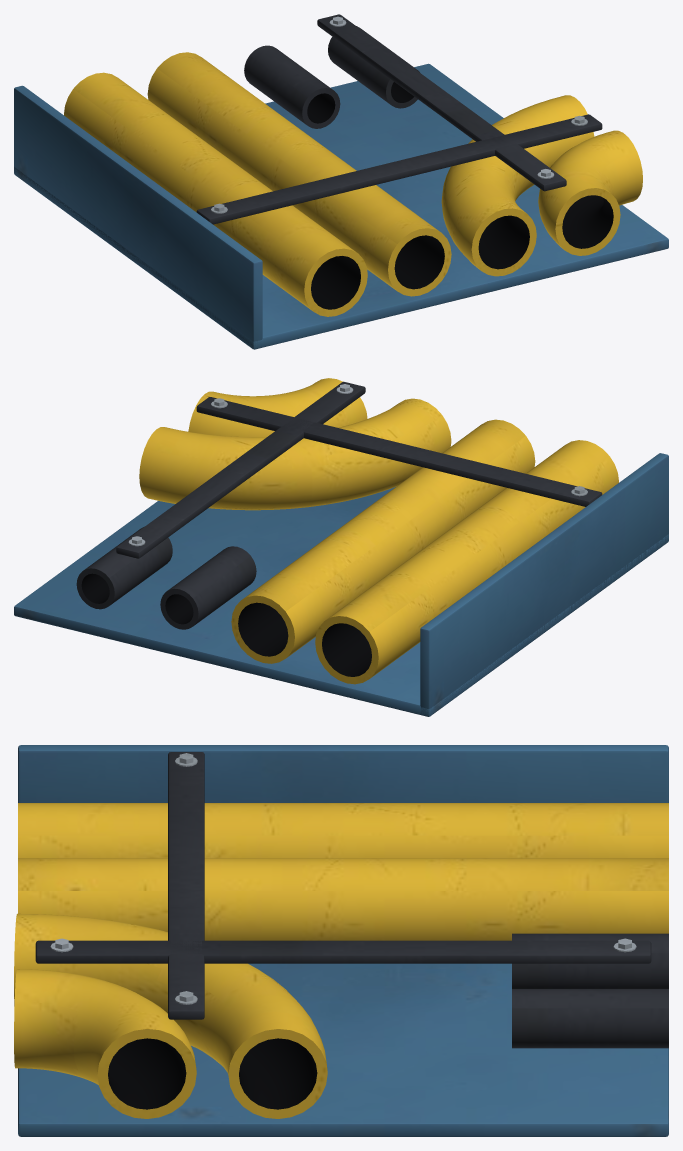
Rendered from tubes_tee.glb.
3 renders of one model, top to bottom at view 1: azimuth 30°, elevation 25°; view 2: azimuth 150°, elevation 25°; view 3: azimuth 270°, elevation 25°, orthographic. The views are drawn at different scales.
Visible parts, largest first — view 1: Body.002; view 2: Body.002; view 3: Body.002.
Boxes of the visible parts, x1,y1,x2,y2 form: Body.002: (14,14,668,349); Body.002: (14,378,668,716); Body.002: (14,745,668,1136).
Bounding box in the file's own units: 0.5002 × 0.1053 × 0.5002.
Materials: 5 (4 with a texture image).
